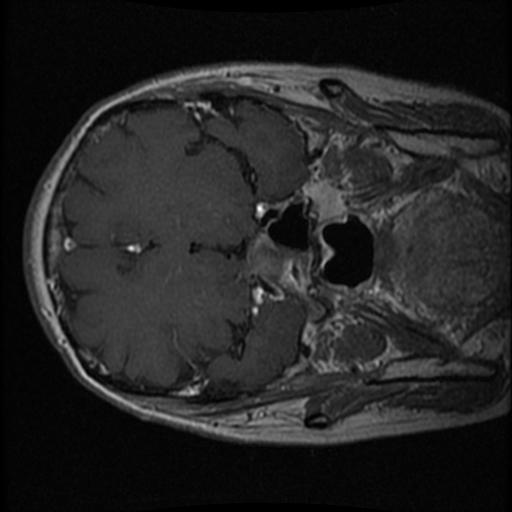pituitary tumour: (245, 232, 289, 281)
